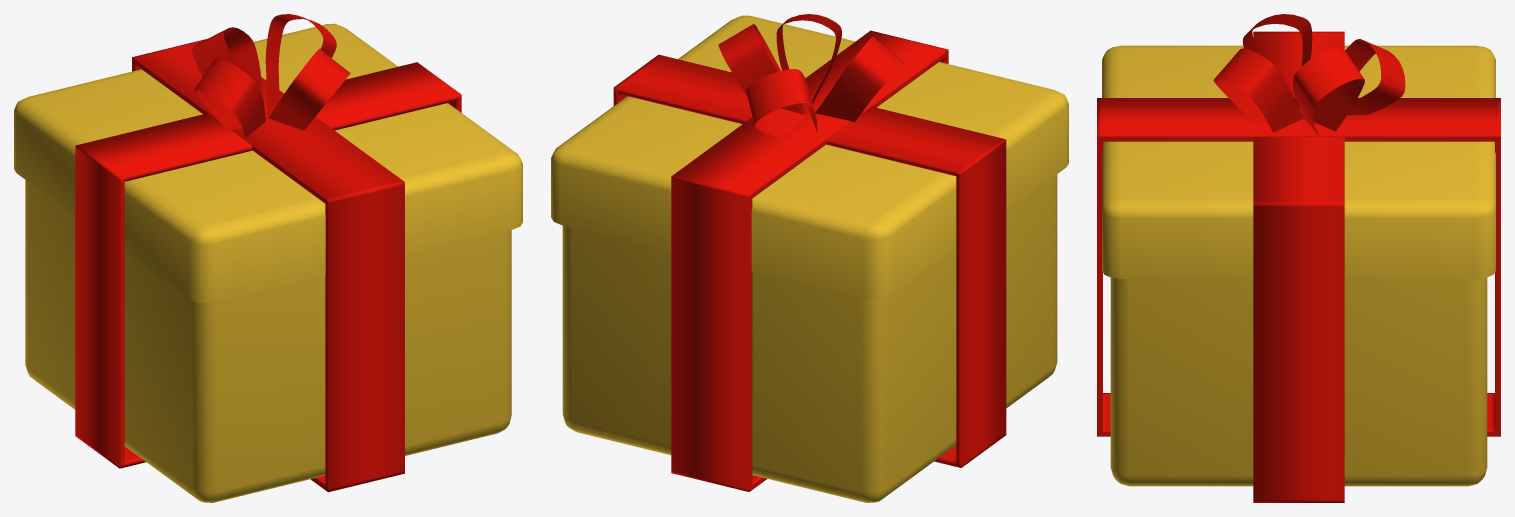
File: GiftBox.fbx
3 views of the same model, side by side, from view 1: azimuth 30°, elevation 25°; view 2: azimuth 150°, elevation 25°; view 3: azimuth 270°, elevation 25° (orthographic). The views are drawn at different scales.
Visible parts, largest first — view 1: Cube.001, Cube.002, Plane.001, Plane.000, Plane.002; view 2: Cube.001, Cube.002, Plane.001, Plane.000, Plane.002; view 3: Cube.001, Cube.002, Plane.000, Plane.001, Plane.002.
Boxes of the visible parts, bbox=[...] form: Cube.001: bbox=[25, 180, 511, 502]; Cube.002: bbox=[14, 23, 522, 303]; Plane.001: bbox=[132, 39, 404, 492]; Plane.000: bbox=[75, 62, 461, 468]; Plane.002: bbox=[192, 14, 350, 138]; Cube.001: bbox=[562, 174, 1057, 502]; Cube.002: bbox=[551, 15, 1068, 299]; Plane.001: bbox=[671, 30, 948, 491]; Plane.000: bbox=[613, 54, 1006, 467]; Plane.002: bbox=[718, 14, 903, 138]; Cube.001: bbox=[1110, 277, 1487, 486]; Cube.002: bbox=[1102, 45, 1495, 278]; Plane.000: bbox=[1253, 31, 1344, 502]; Plane.001: bbox=[1097, 98, 1500, 436]; Plane.002: bbox=[1213, 14, 1405, 136].
Size of the model in its own units: 216 by 227 by 214.
